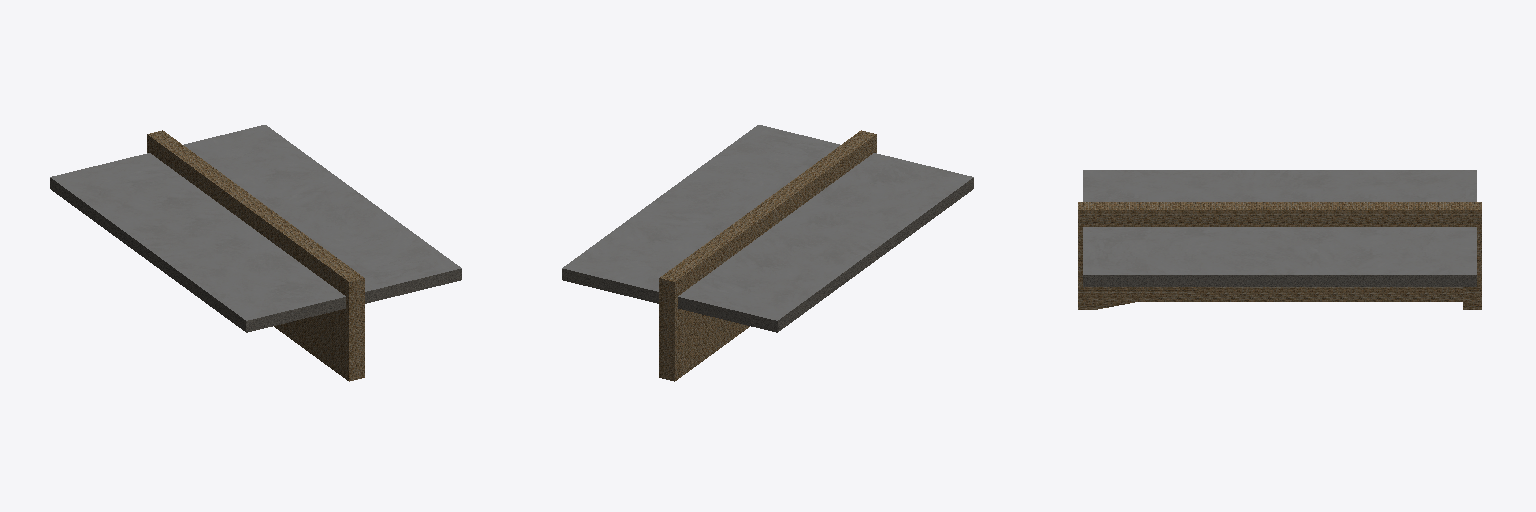
3 views of the same model, side by side, from view 1: azimuth 30°, elevation 25°; view 2: azimuth 150°, elevation 25°; view 3: azimuth 270°, elevation 25° (orthographic).
Parts seen in each view (by area): view 1: techo_Cube; view 2: techo_Cube; view 3: techo_Cube.
Part boxes in pixels (bbox=[...]): techo_Cube: bbox=[50, 125, 461, 381]; techo_Cube: bbox=[562, 125, 973, 381]; techo_Cube: bbox=[1078, 170, 1481, 309].
Bounding box in the file's own units: 9.5 × 4.2 × 15.4.
Materials: 3 (3 with a texture image).